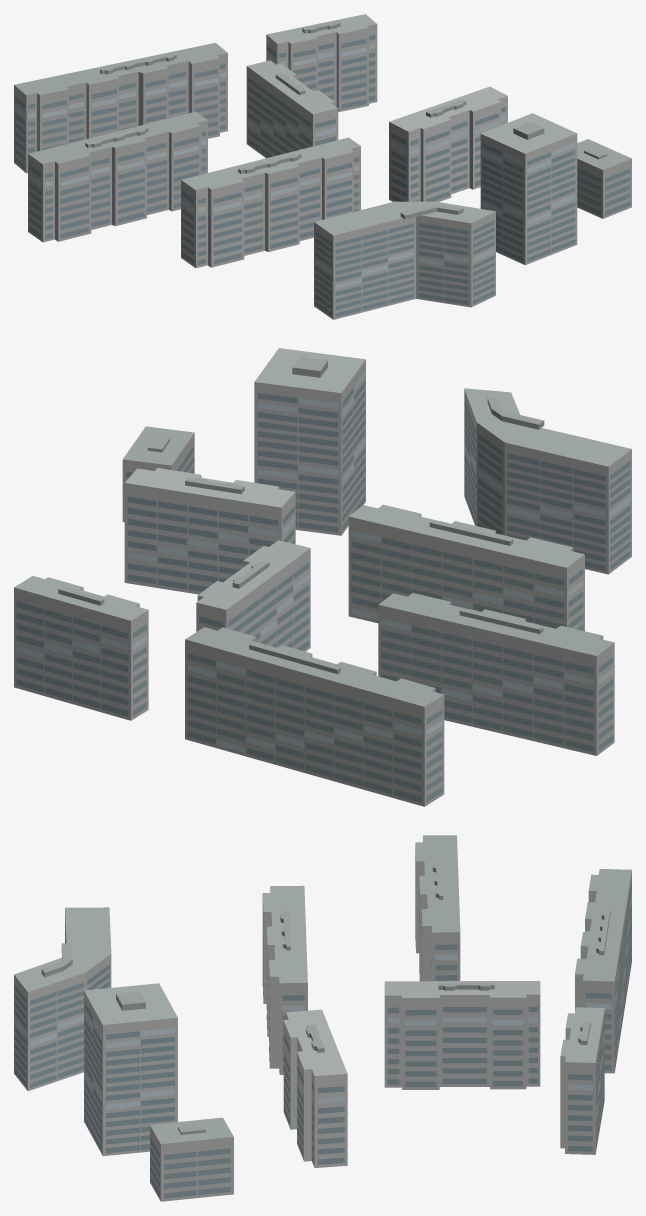
The model's file is apt-a13980009.glb.
3 views of the same model, one above another, from view 1: azimuth 30°, elevation 25°; view 2: azimuth 150°, elevation 25°; view 3: azimuth 270°, elevation 25° (orthographic). The views are drawn at different scales.
Parts seen in each view (by area): view 1: apt-a13980009; view 2: apt-a13980009; view 3: apt-a13980009.
Part boxes in pixels (left/top/right/bottom): apt-a13980009: left=14, top=14, right=631, bottom=319; apt-a13980009: left=14, top=348, right=631, bottom=806; apt-a13980009: left=14, top=835, right=631, bottom=1201.
Size of the model in its own units: 176 by 41 by 167.
